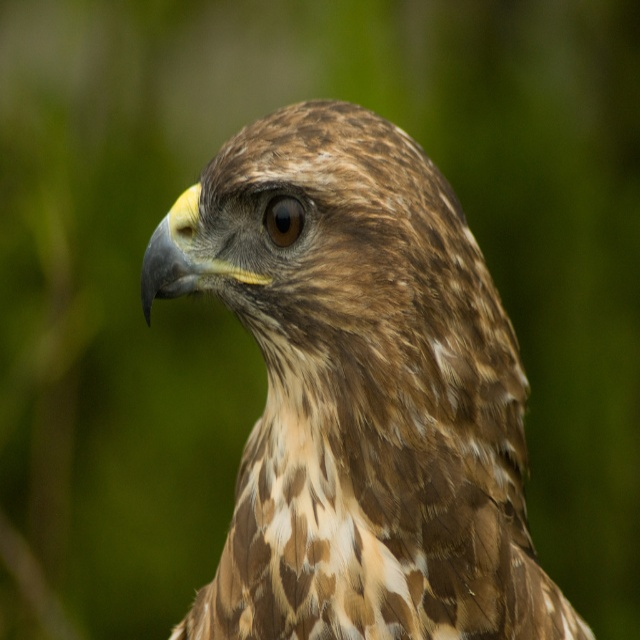Eagle: (140, 93, 598, 639)
